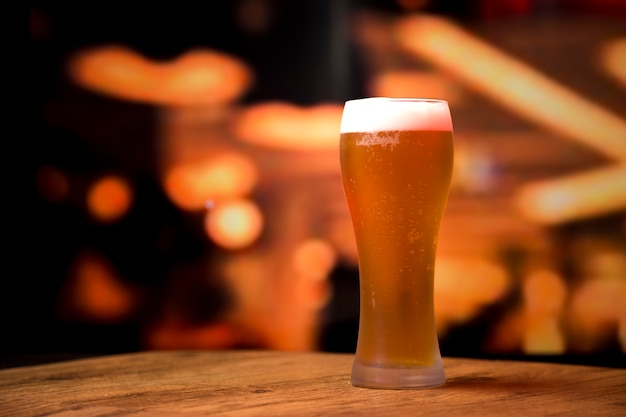alcohol: (341, 93, 452, 390)
